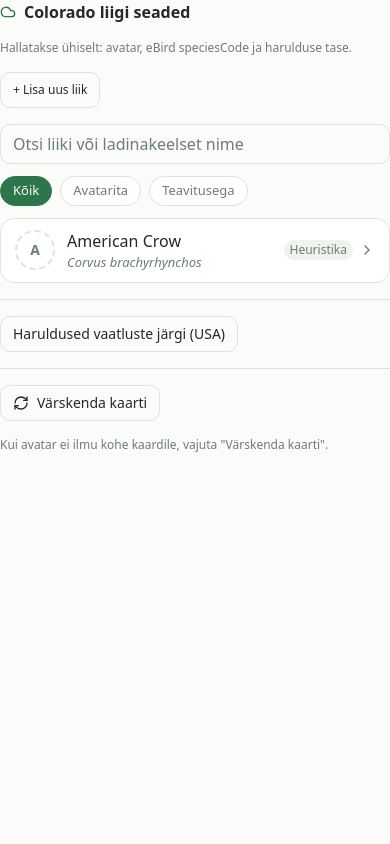
AvatarManager GBIF obs-count line › renders the formatted global eBird count under the scientific name
What coordinates should you click on to do the following:
click the text "American Crow"
I would click on:
 (124, 240)
Its box is [67,230,181,252].
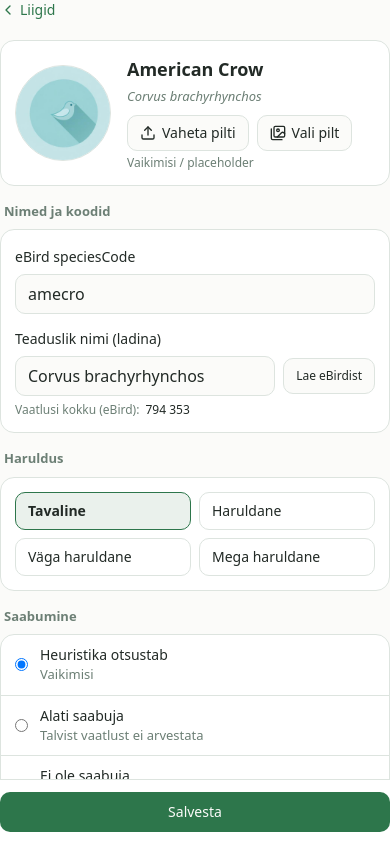
Result: the text "Vaatlusi kokku (eBird):" is shown at [15,402,139,418]
